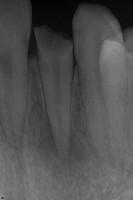Furcation Involvement: (38, 115, 87, 178)
